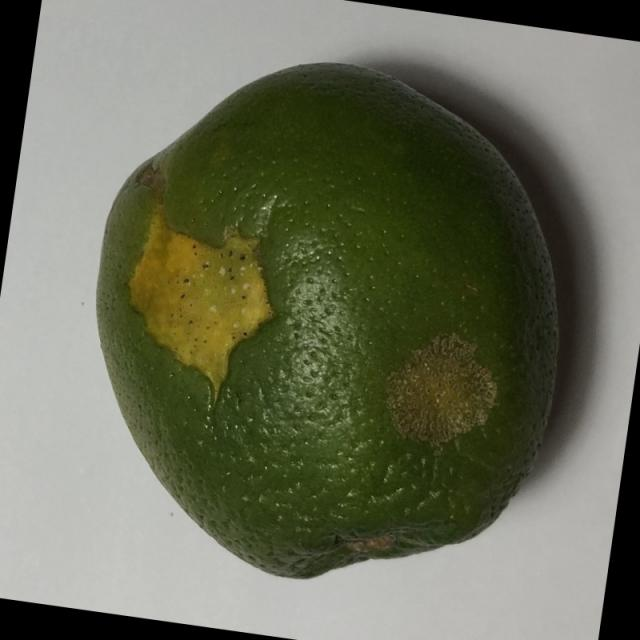canker: (70, 46, 623, 622)
